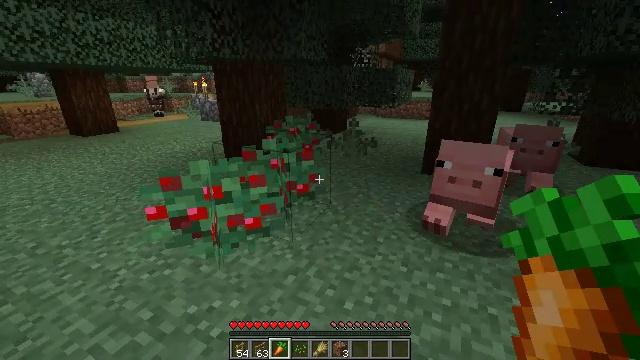pig: (424, 140, 509, 234), (503, 128, 568, 197)
